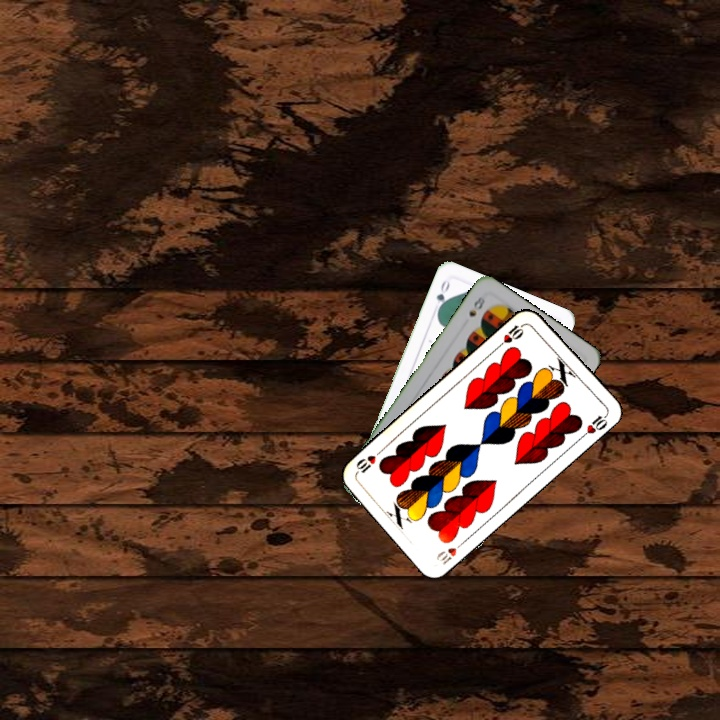GO: (432, 276, 452, 315)
H10: (432, 537, 468, 568), (494, 319, 528, 350)
S8: (465, 290, 488, 319)
